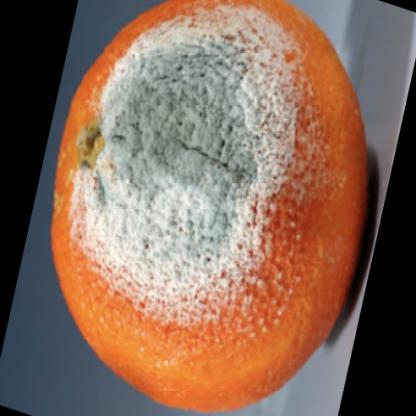rotten: (53, 1, 370, 409)
